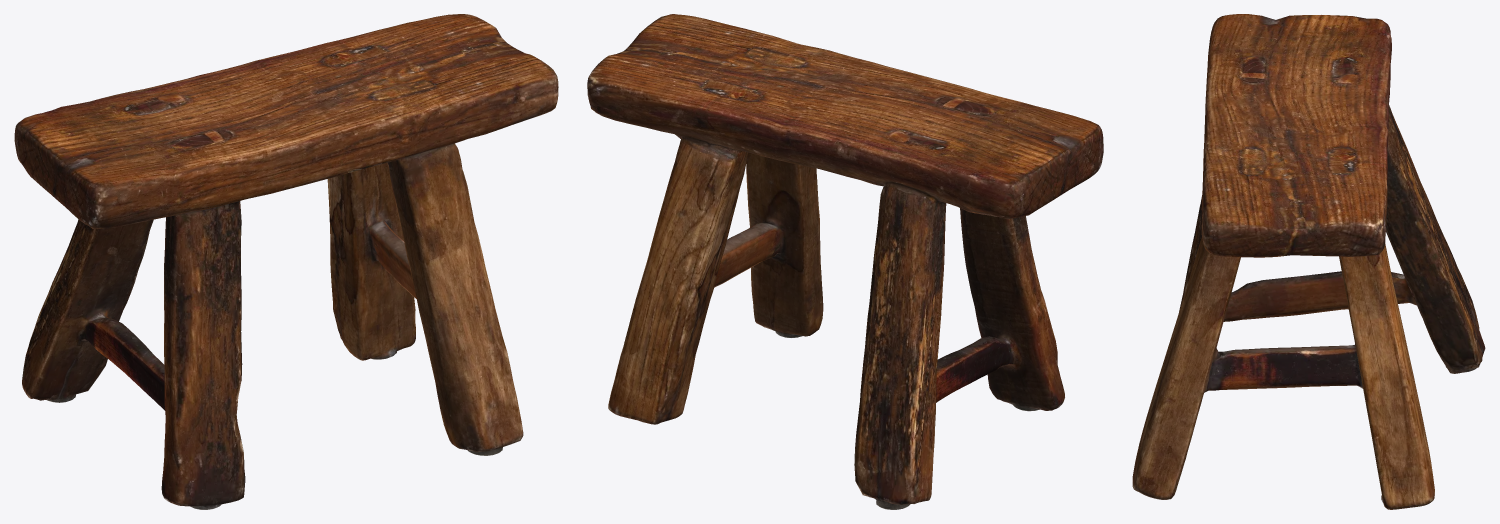
Rendered from wooden_stool_02.glb.
The picture shows the model from 3 angles, left to right: view 1: azimuth 30°, elevation 25°; view 2: azimuth 150°, elevation 25°; view 3: azimuth 270°, elevation 25°; orthographic projection. The views are drawn at different scales.
Parts seen in each view (by area): view 1: wooden_stool_02; view 2: wooden_stool_02; view 3: wooden_stool_02.
Boxes of the visible parts, bbox=[...] form: wooden_stool_02: bbox=[14, 14, 558, 509]; wooden_stool_02: bbox=[587, 14, 1103, 509]; wooden_stool_02: bbox=[1132, 14, 1485, 509].
Size of the model in its own units: 0.2652 by 0.1819 by 0.1831.
1 material, 1 textured.
